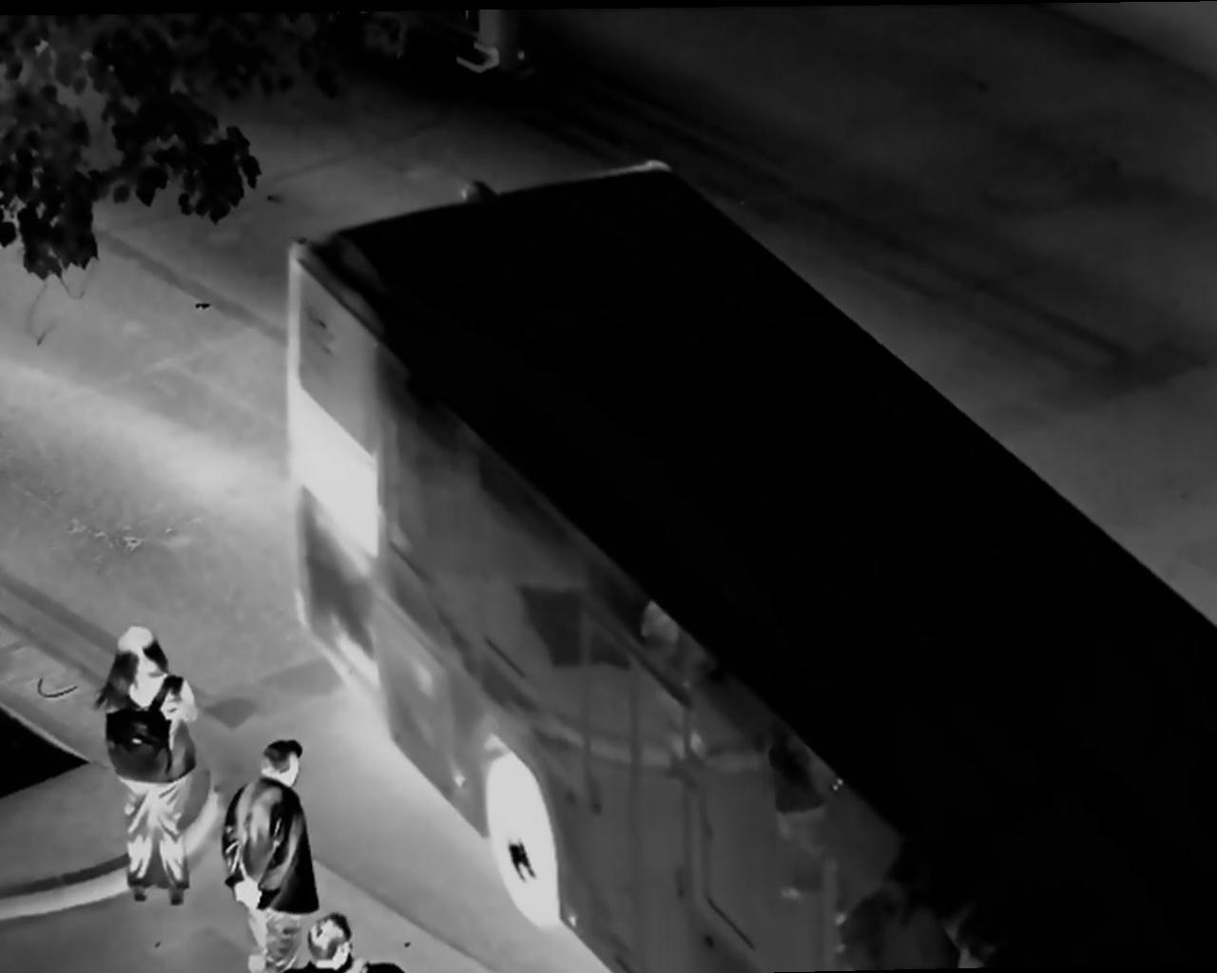person: (98, 625, 215, 906), (222, 734, 311, 949), (306, 909, 396, 973)
